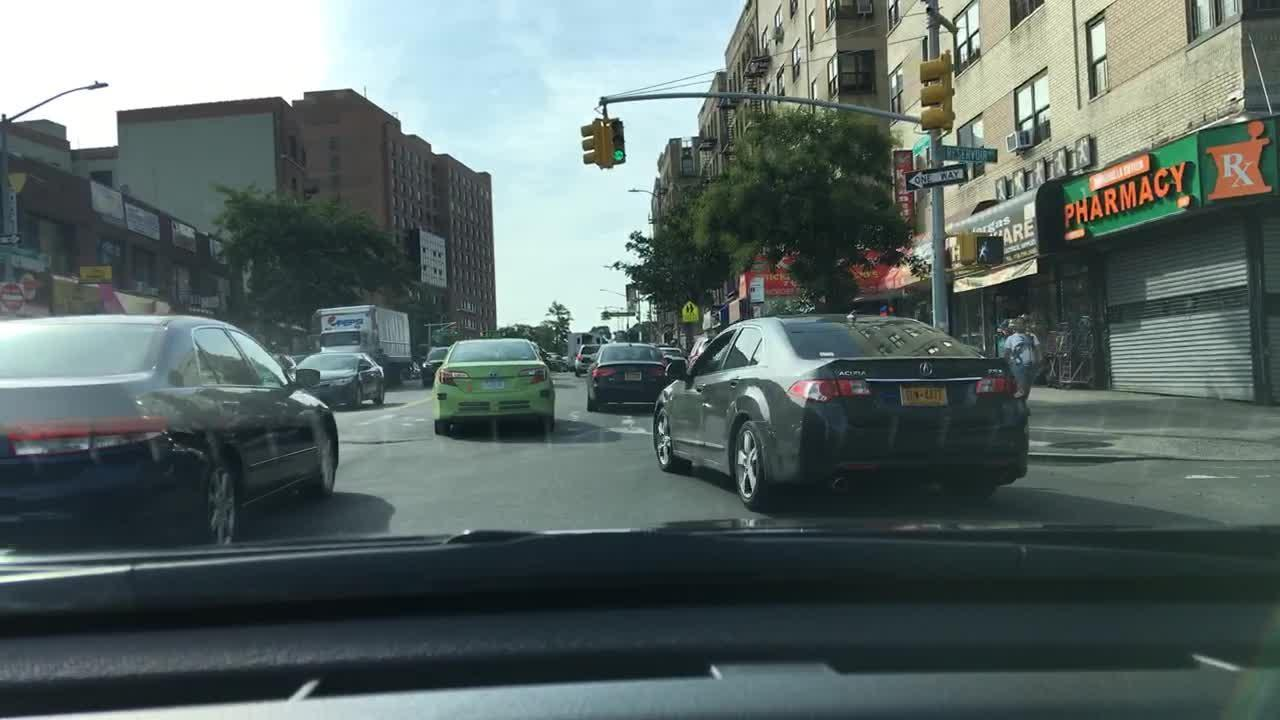acura: (917, 360, 935, 379)
